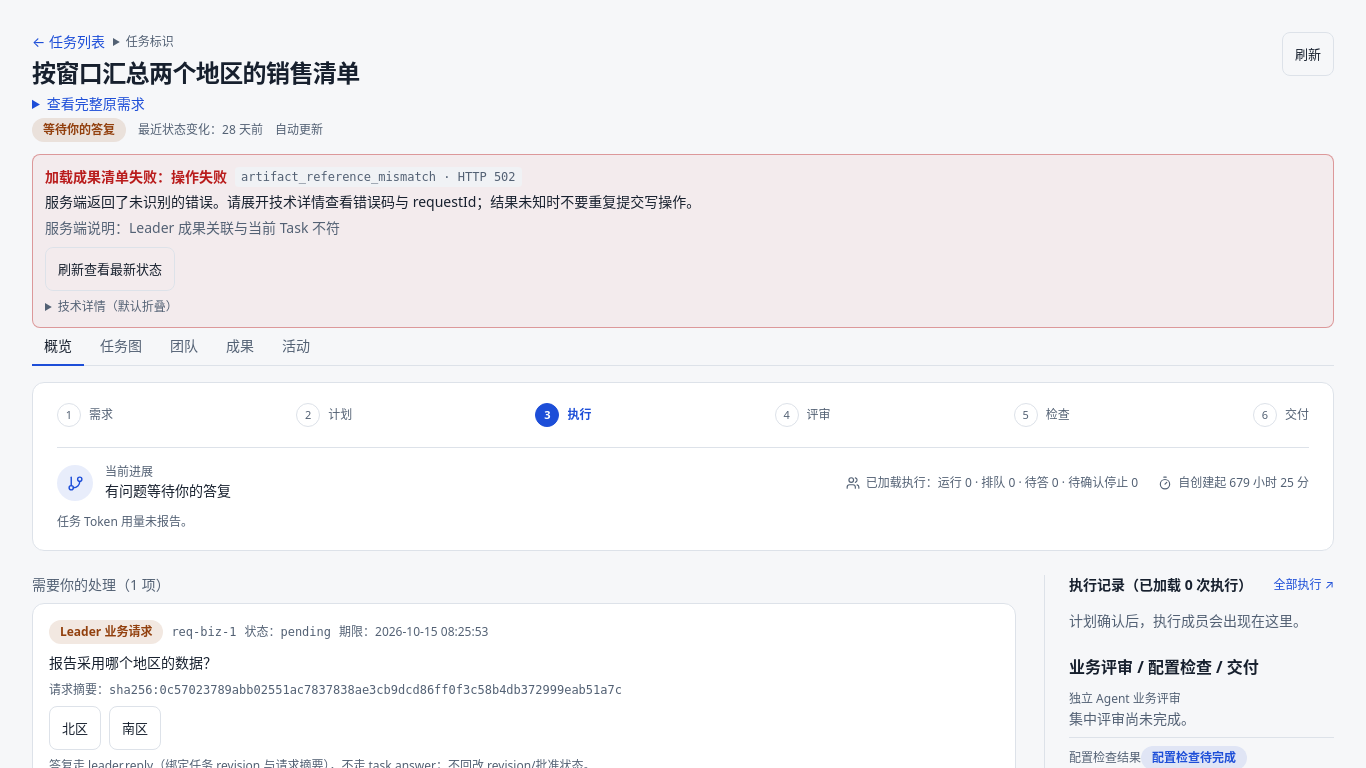
Test case: Leader 原请求受理后的统一等待提示 › 收到受理回执后不再催原答复；旧pending投影与新Task revision不恢复重复操作
Click the button with test id "leader-answer-option-north" at coordinates (75, 728), box 49,706 -> 101,750
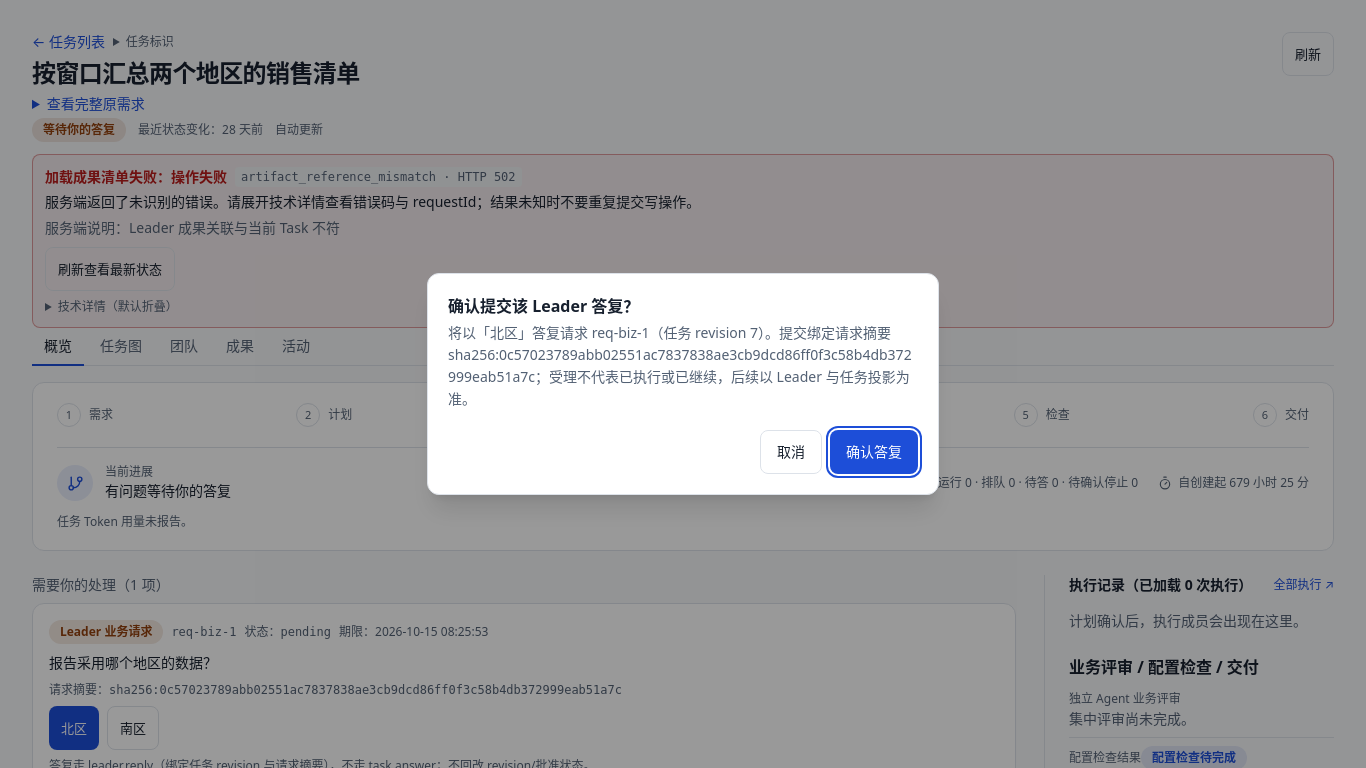
Click the button "确认答复" at coordinates (874, 452), box 830,430 -> 918,474
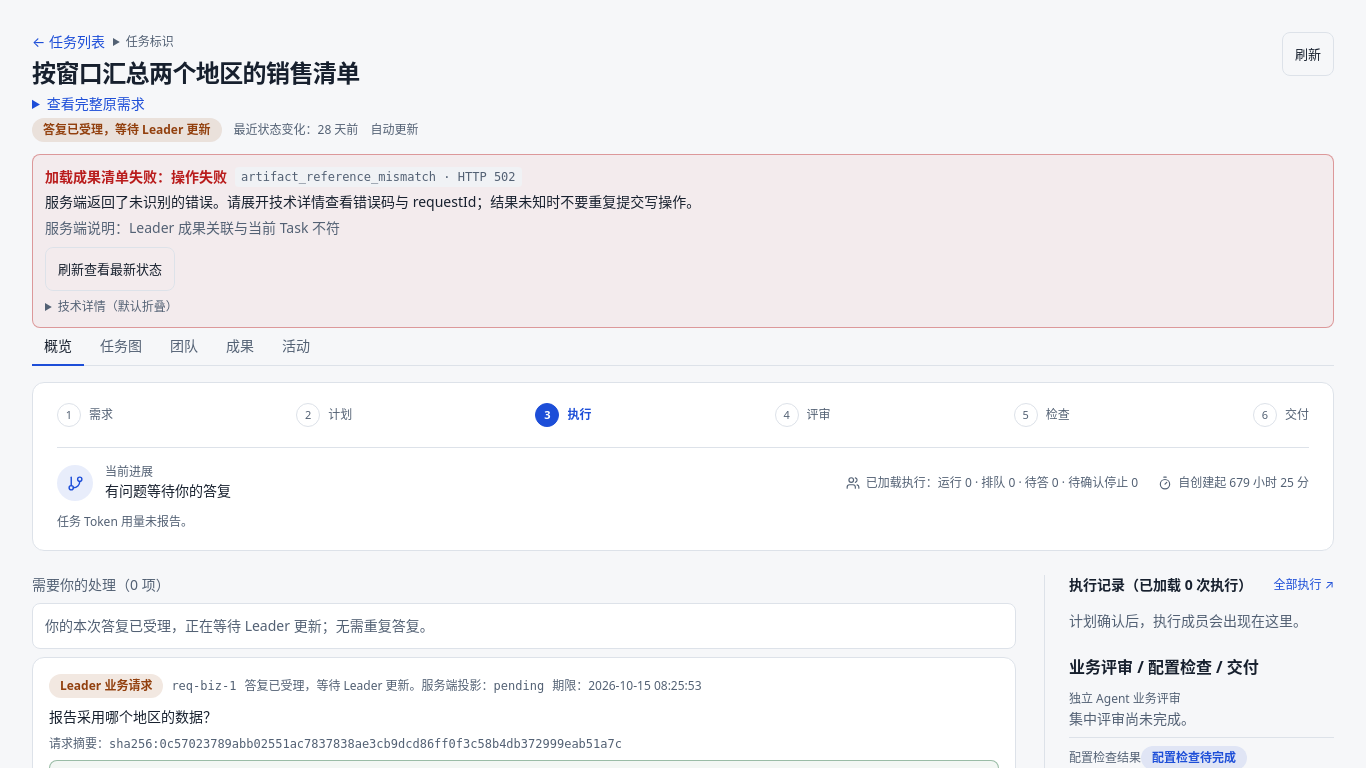
Expected: the heading "需要你的处理（0 项）" is shown, 32,575 -> 170,594
Expected: the text "答复已受理，等待 Leader 更新" is shown, 32,118 -> 222,142
Click the button with test id "detail-refresh" at coordinates (1308, 54), box 1282,32 -> 1334,76
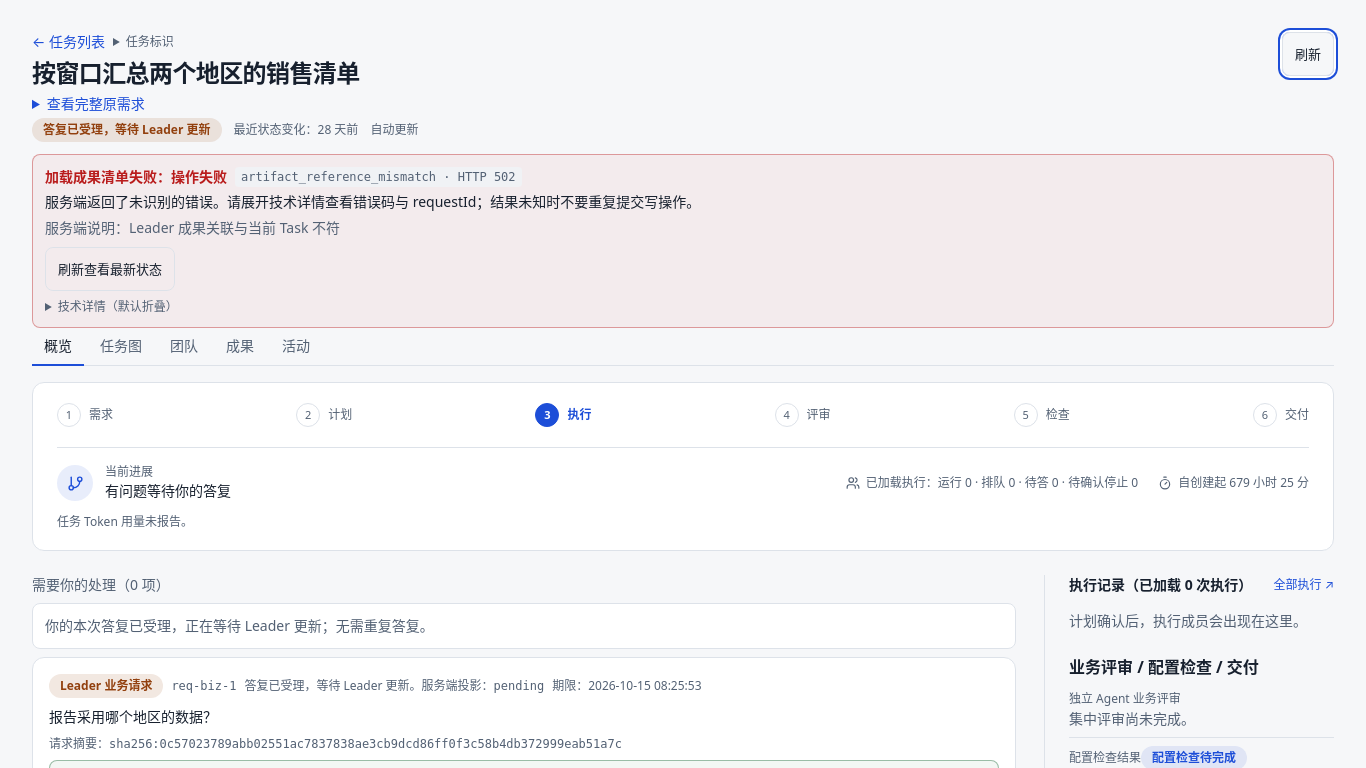
Expected: the heading "需要你的处理（0 项）" is shown, 32,575 -> 170,594
Click the link "团队" at coordinates (184, 346), box 170,336 -> 198,355
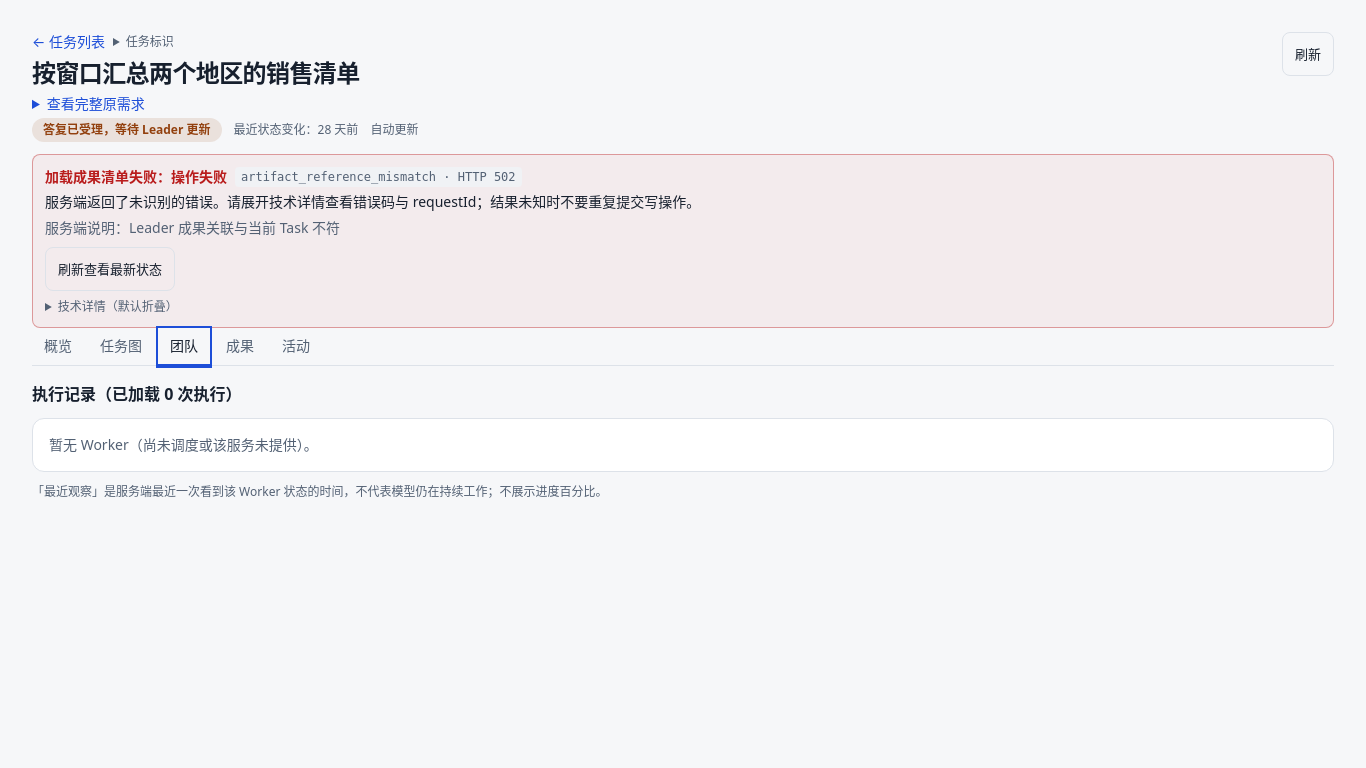
Click the link "概览" at coordinates (58, 346), box 44,336 -> 72,355
(page scrolled)
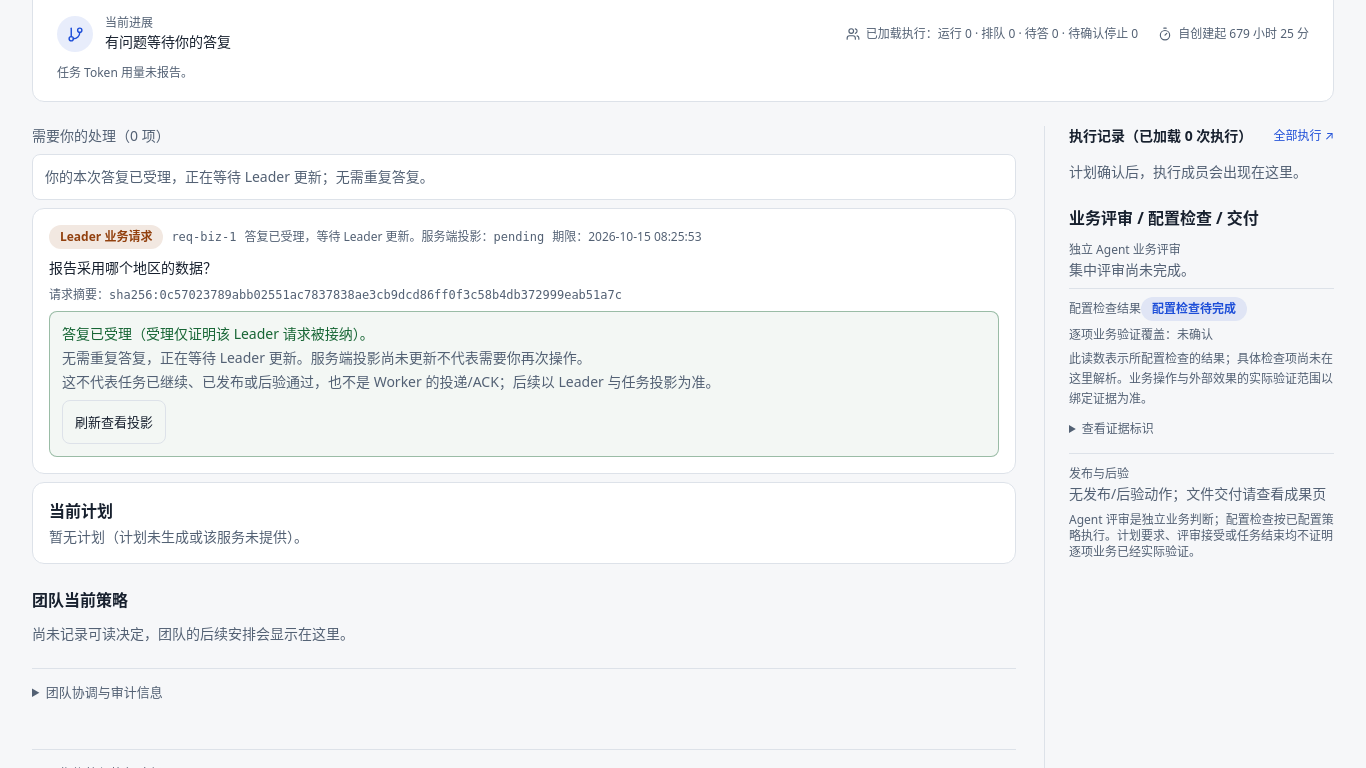
Expected: the message with test id "leader-reply-accepted" shows "无需重复答复", 62,348 -> 591,367
